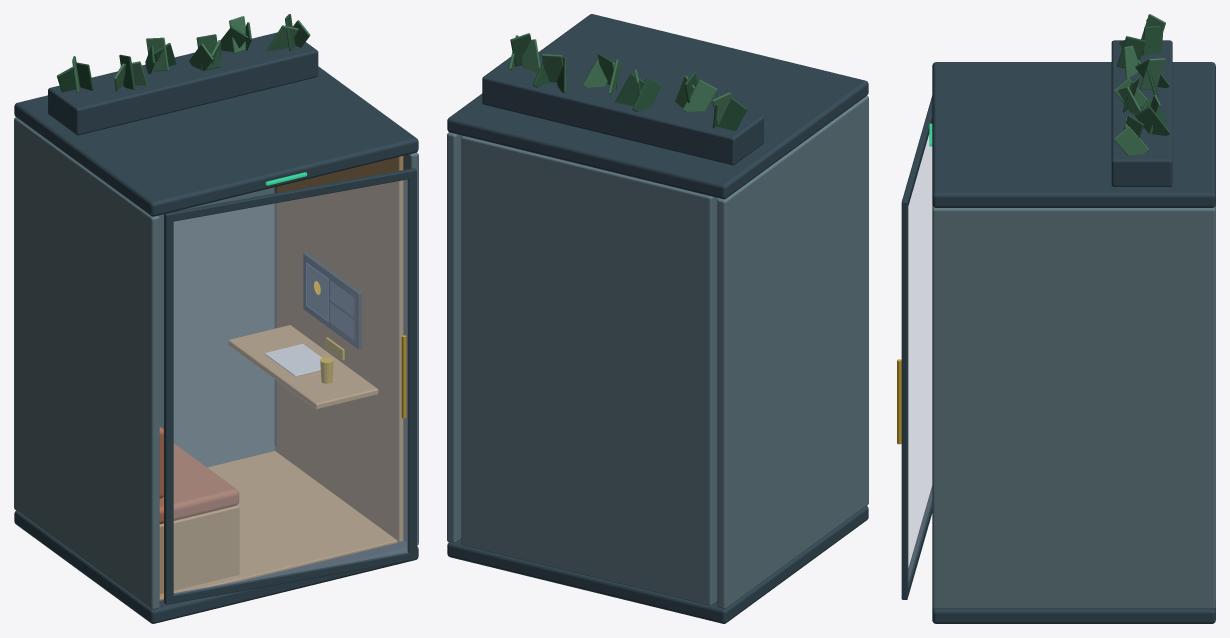
File: campus-pod-terracotta.glb
3 renders of one model, left to right at view 1: azimuth 30°, elevation 25°; view 2: azimuth 150°, elevation 25°; view 3: azimuth 270°, elevation 25°, orthographic. The views are drawn at different scales.
Bounding box in the file's own units: 1.45 × 2.49 × 1.46.
Materials: 13 (1 with a texture image).
